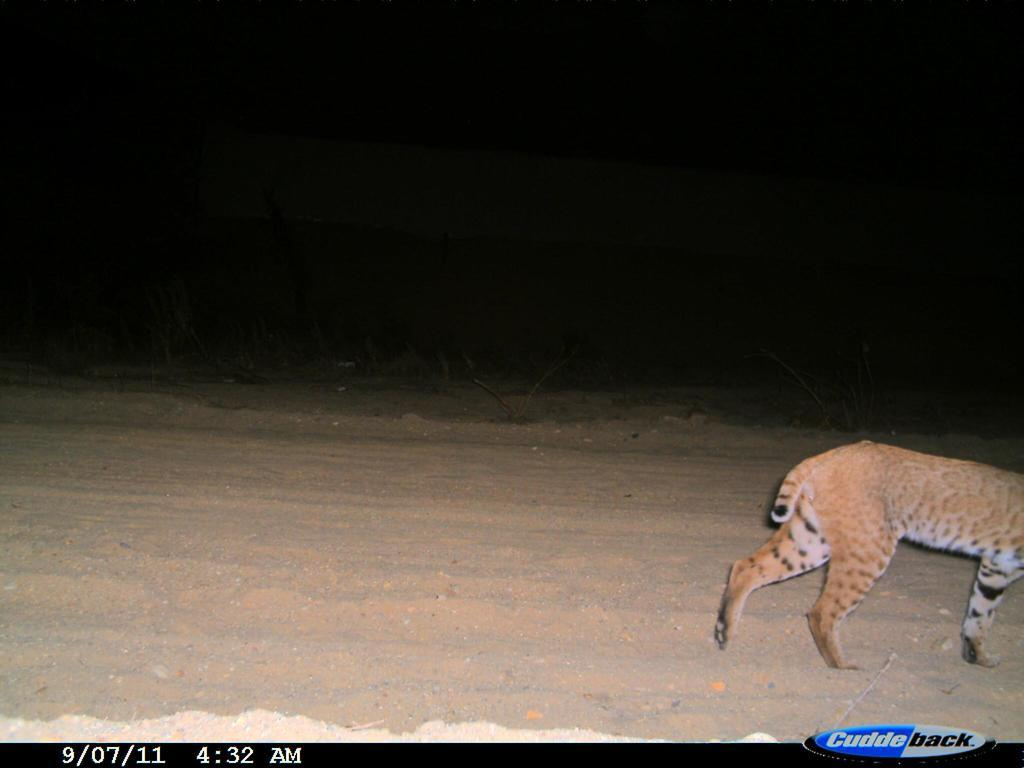bobcat: (710, 432, 1023, 676)
